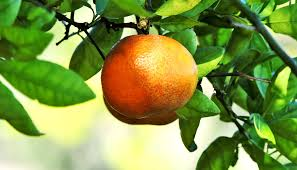orange: (101, 31, 205, 128)
